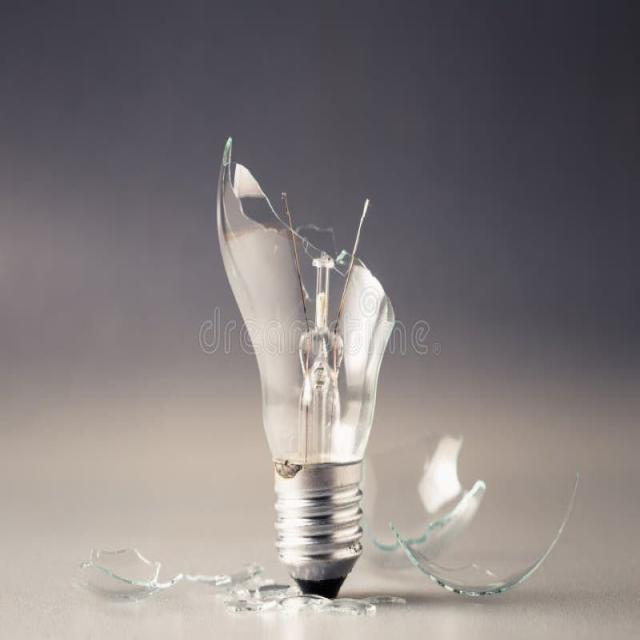bulb: (159, 0, 573, 610)
